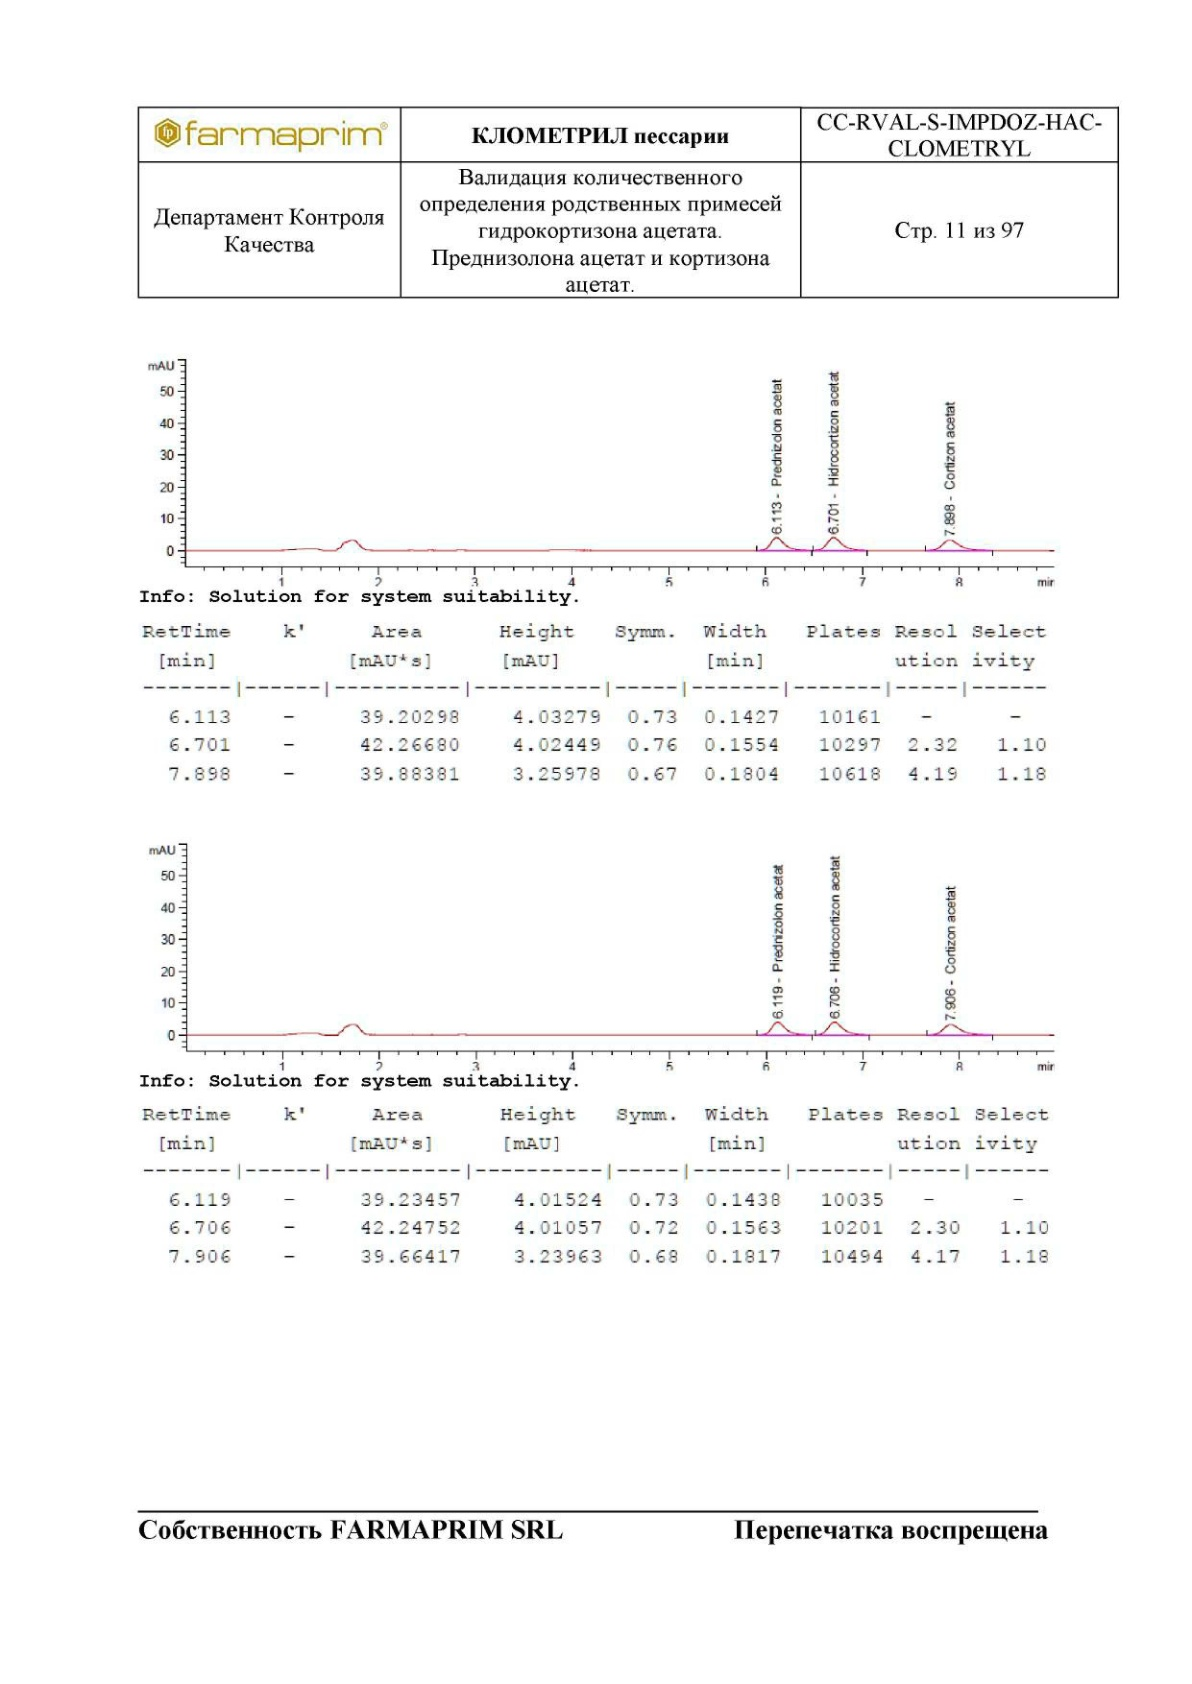full_lined: (135, 104, 1118, 300)
partial_lined: (138, 618, 1057, 789), (138, 1102, 1057, 1270)
